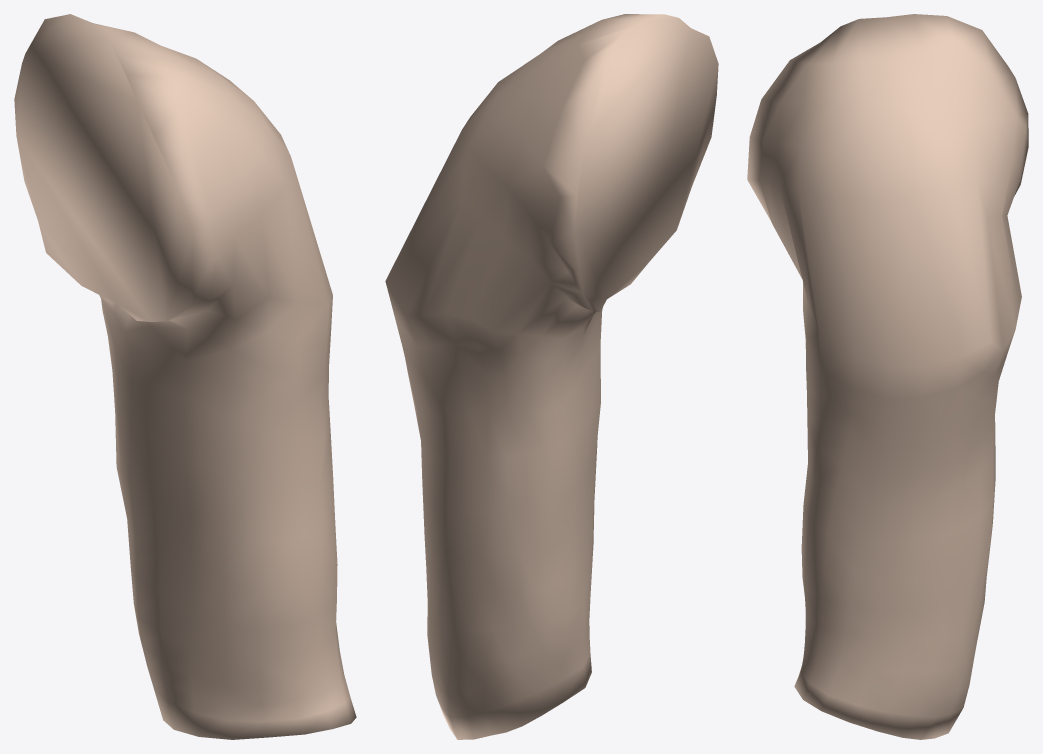
File: right_upper_arm.dae
3 views of the same model, side by side, from view 1: azimuth 30°, elevation 25°; view 2: azimuth 150°, elevation 25°; view 3: azimuth 270°, elevation 25° (orthographic). The views are drawn at different scales.
Visible parts, largest first — view 1: right-upper-arm; view 2: right-upper-arm; view 3: right-upper-arm.
Boxes of the visible parts, x1,y1,x2,y2 form: right-upper-arm: [14, 14, 356, 739]; right-upper-arm: [385, 14, 718, 739]; right-upper-arm: [747, 14, 1028, 739].
Bounding box in the file's own units: 0.1044 × 0.1234 × 0.3158.
